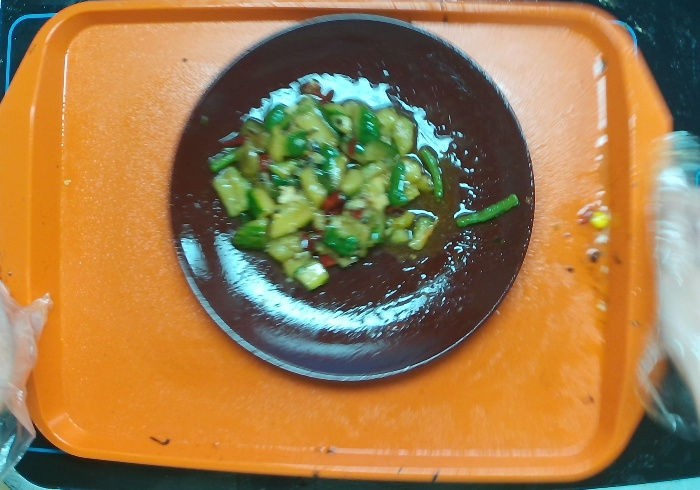HZYJPL-Ka_Fei_Yuan_Pan: (166, 4, 536, 380)
